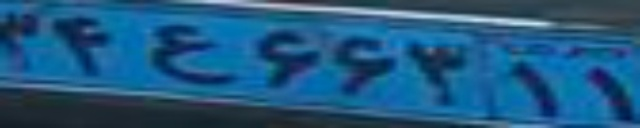1: (582, 64, 634, 122), (508, 59, 556, 117)
3: (408, 39, 468, 106), (0, 9, 43, 72)
4: (51, 12, 111, 77)
6: (329, 35, 397, 95), (254, 31, 321, 89)
ain: (145, 24, 236, 85)
